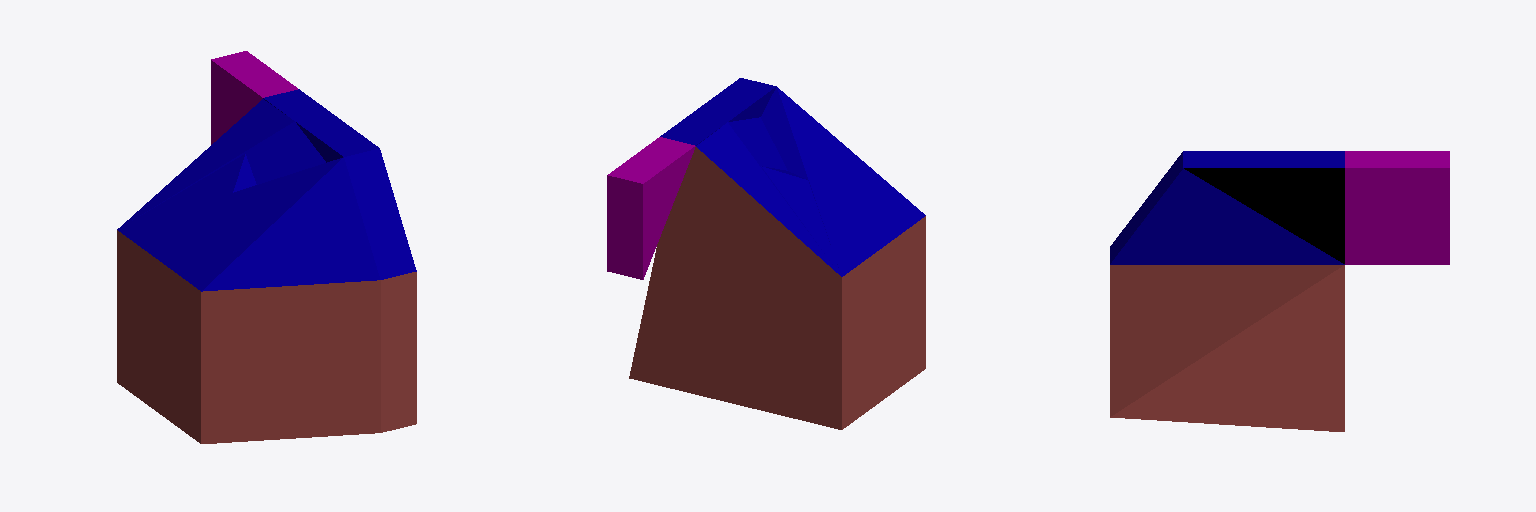
Rendered from missile3.obj.
3 renders of one model, left to right at view 1: azimuth 30°, elevation 25°; view 2: azimuth 150°, elevation 25°; view 3: azimuth 270°, elevation 25°, orthographic.
Visible parts, largest first — view 1: Cube; view 2: Cube; view 3: Cube.
Boxes of the visible parts, box(x1,y1,x2,y2) form: Cube: box(117, 51, 416, 443); Cube: box(607, 78, 925, 429); Cube: box(1110, 151, 1449, 431).
Bounding box in the file's own units: 2.92 × 3.26 × 4.03.